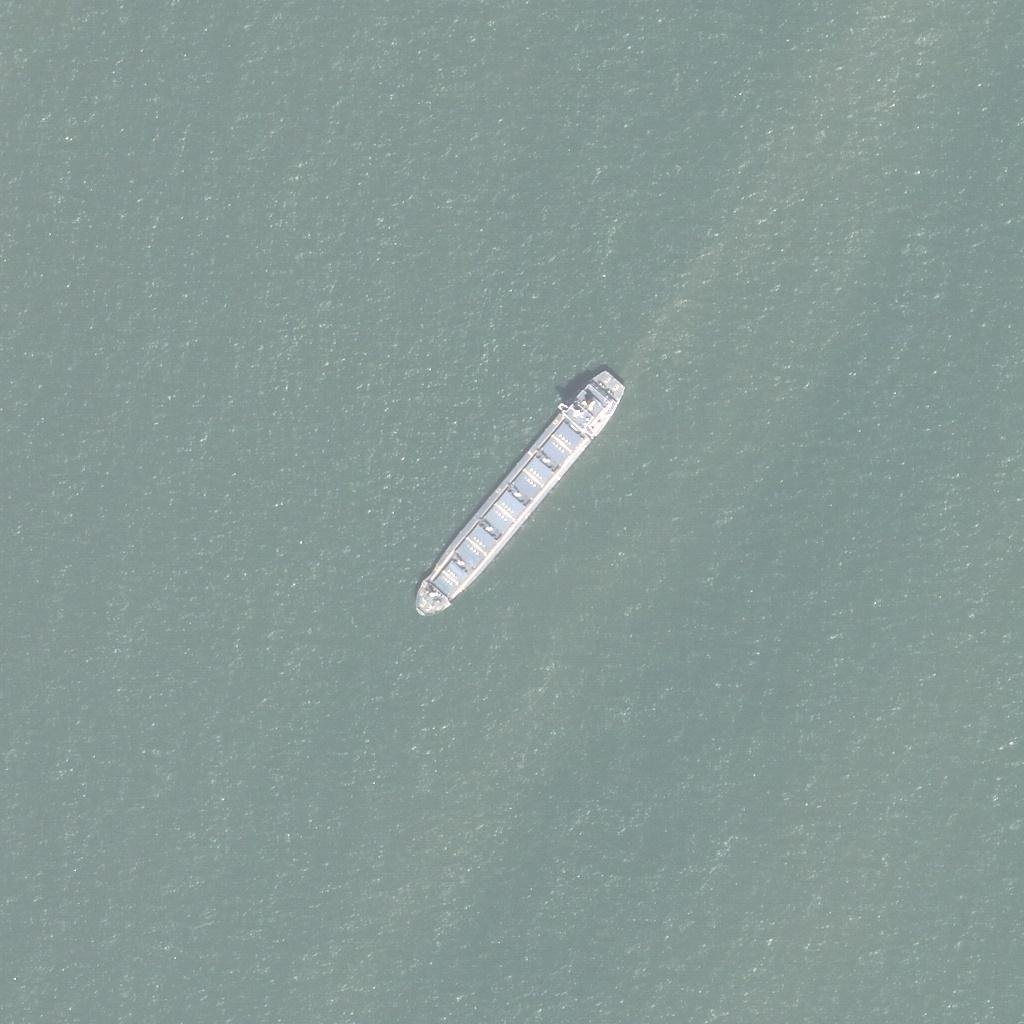ship: (409, 363, 630, 623)
